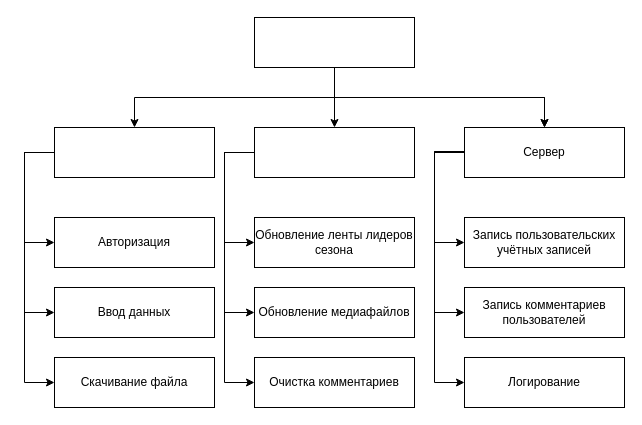
This 642x425 diagram has some shape labels left out. The shapes that lost their labels are listed below. From the top down, each one's centre as x and y in pixels, then its label:
[334,42]: Все точки зрения
[134,152]: Пользователь
[334,152]: Администратор
